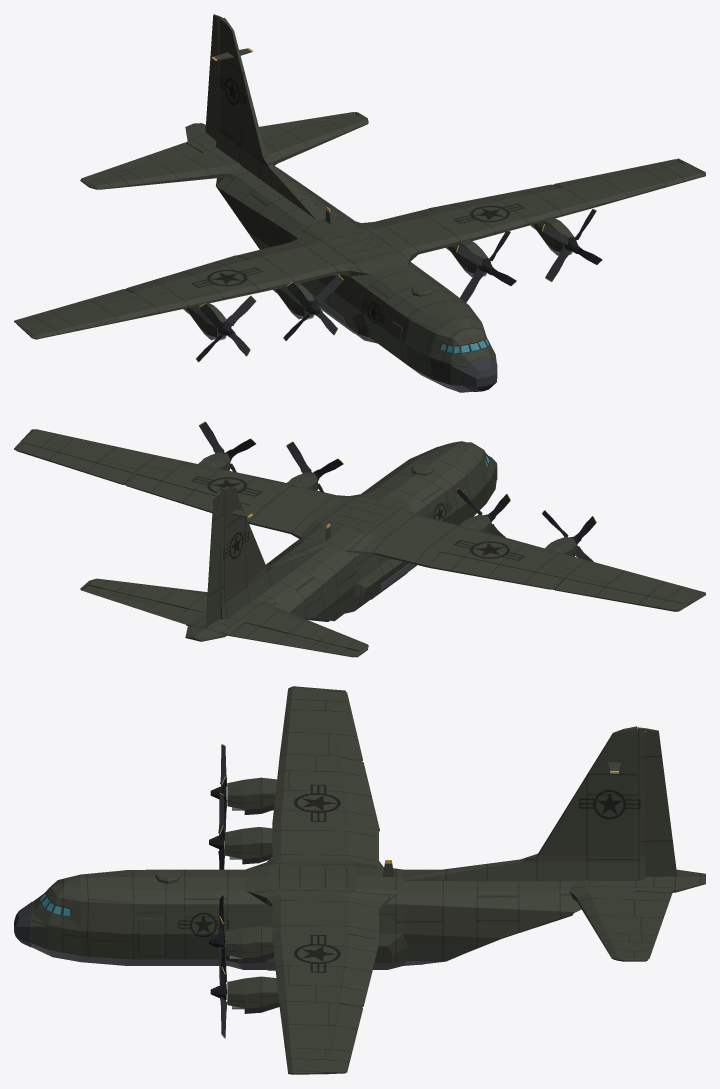
3 views of the same model, one above another, from view 1: azimuth 30°, elevation 25°; view 2: azimuth 150°, elevation 25°; view 3: azimuth 270°, elevation 25° (orthographic). The views are drawn at different scales.
Parts seen in each view (by area): view 1: Plane, SM_Veh_Plane_Flap_rr, SM_Veh_Plane_Flap_Tail_01, SM_Veh_Plane_Prop_01, SM_Veh_Plane_Prop_04, SM_Veh_Plane_Prop_02, SM_Veh_Plane_Prop_03, SM_Veh_Plane_Flap_fr_02, SM_Veh_Plane_Flap_rl, SM_Veh_Plane_Flap_fl_02, SM_Veh_Plane_Flap_fr_01, SM_Veh_Plane_Flap_fl_01; view 2: Plane, SM_Veh_Plane_Flap_fr_02, SM_Veh_Plane_Flap_Tail_01, SM_Veh_Plane_Flap_rr, SM_Veh_Plane_Flap_fr_01, SM_Veh_Plane_Flap_fl_02, SM_Veh_Plane_Flap_fl_01, SM_Veh_Plane_Flap_rl, SM_Veh_Plane_Prop_01, SM_Veh_Plane_Prop_02, SM_Veh_Plane_Prop_04, SM_Veh_Plane_Prop_03; view 3: Plane, SM_Veh_Plane_Flap_Tail_01, SM_Veh_Plane_Flap_fl_02, SM_Veh_Plane_Flap_rl, SM_Veh_Plane_Flap_fr_02, SM_Veh_Plane_Flap_fl_01, SM_Veh_Plane_Flap_fr_01, SM_Veh_Plane_Prop_01.
Part boxes in pixels (x1,y1,x2,y2): Plane: (14, 18, 705, 392); SM_Veh_Plane_Flap_rr: (81, 142, 201, 181); SM_Veh_Plane_Flap_Tail_01: (205, 14, 222, 140); SM_Veh_Plane_Prop_01: (542, 209, 602, 281); SM_Veh_Plane_Prop_04: (196, 295, 256, 362); SM_Veh_Plane_Prop_02: (456, 230, 516, 302); SM_Veh_Plane_Prop_03: (283, 274, 343, 340); SM_Veh_Plane_Flap_fr_02: (126, 255, 247, 291); SM_Veh_Plane_Flap_rl: (259, 112, 357, 138); SM_Veh_Plane_Flap_fl_02: (428, 184, 560, 212); SM_Veh_Plane_Flap_fr_01: (16, 289, 132, 324); SM_Veh_Plane_Flap_fl_01: (555, 159, 682, 187); Plane: (14, 429, 705, 657); SM_Veh_Plane_Flap_fr_02: (428, 552, 561, 589); SM_Veh_Plane_Flap_Tail_01: (205, 489, 223, 627); SM_Veh_Plane_Flap_rr: (230, 623, 358, 657); SM_Veh_Plane_Flap_fr_01: (555, 579, 683, 611); SM_Veh_Plane_Flap_fl_02: (126, 474, 248, 512); SM_Veh_Plane_Flap_fl_01: (16, 443, 133, 484); SM_Veh_Plane_Flap_rl: (82, 585, 201, 624); SM_Veh_Plane_Prop_01: (199, 421, 256, 472); SM_Veh_Plane_Prop_02: (286, 441, 343, 491); SM_Veh_Plane_Prop_04: (542, 510, 596, 561); SM_Veh_Plane_Prop_03: (456, 488, 510, 537); Plane: (14, 686, 705, 1074); SM_Veh_Plane_Flap_Tail_01: (637, 727, 677, 876); SM_Veh_Plane_Flap_fl_02: (340, 934, 379, 1006); SM_Veh_Plane_Flap_rl: (634, 891, 672, 959); SM_Veh_Plane_Flap_fr_02: (339, 758, 379, 831); SM_Veh_Plane_Flap_fl_01: (328, 1004, 362, 1072); SM_Veh_Plane_Flap_fr_01: (328, 691, 362, 760); SM_Veh_Plane_Prop_01: (210, 945, 227, 1038).
Bounding box in the file's own units: 44.03 × 12.28 × 33.28.
Materials: 2 (1 with a texture image).
